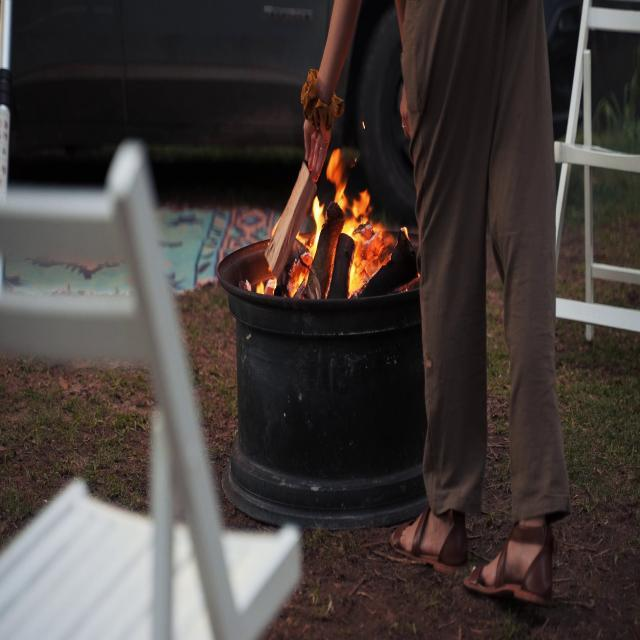Fire: (294, 142, 394, 294)
